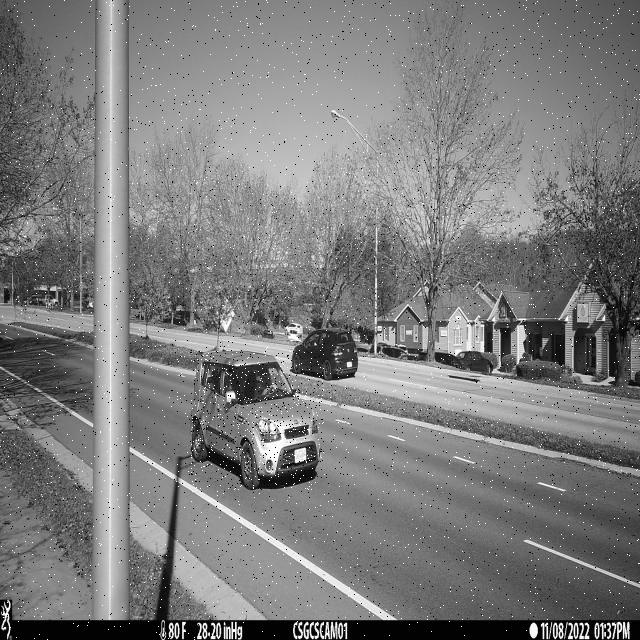Hatchback: (191, 350, 324, 490)
